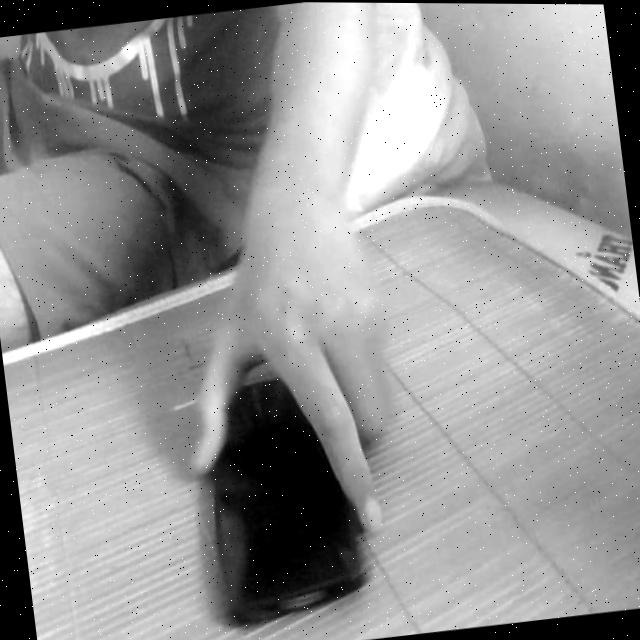phone: (172, 324, 394, 632)
